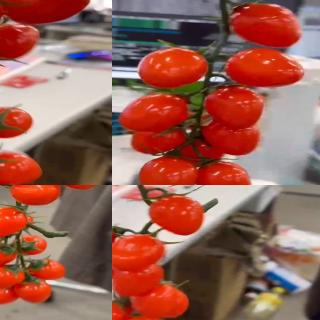tomato: (0, 0, 90, 27), (149, 194, 206, 235), (132, 283, 192, 319), (112, 235, 167, 272), (112, 262, 166, 298), (0, 23, 40, 61), (0, 150, 43, 185), (0, 105, 34, 138), (8, 185, 61, 205), (0, 205, 30, 237), (15, 280, 52, 305), (26, 258, 67, 280), (10, 236, 48, 257), (0, 264, 26, 288), (0, 281, 23, 305), (112, 298, 137, 320), (112, 252, 129, 280), (0, 244, 19, 266), (118, 315, 168, 320)
